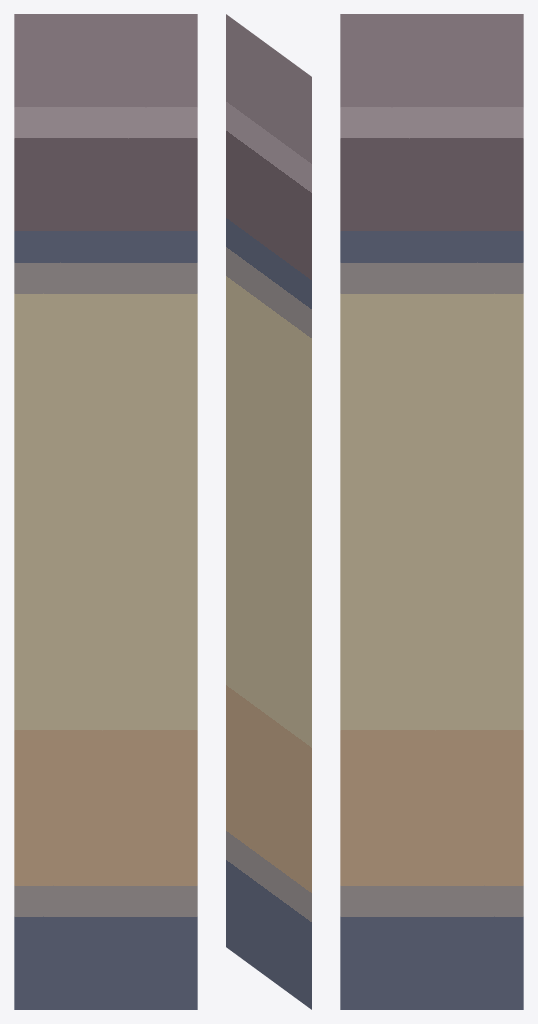
3 renders of one model, left to right at view 1: azimuth 90°, elevation 25°; view 2: azimuth 210°, elevation 25°; view 3: azimuth 270°, elevation 25°, orthographic. The views are drawn at different scales.
Bounding box in the file's own units: 0 × 3 × 0.5.
1 material, 1 textured.
